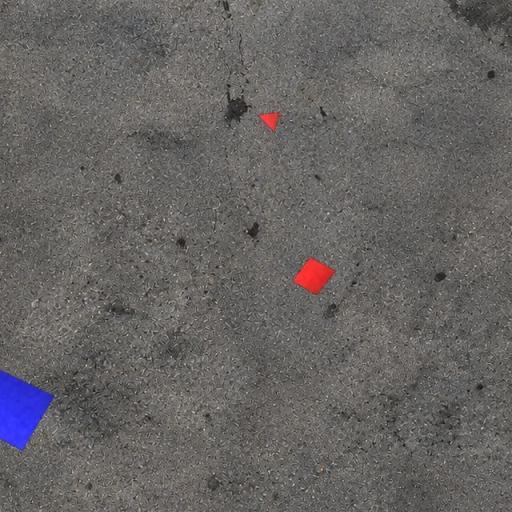BLUE_SQUARE: (0, 369, 55, 451)
RED_SQUARE: (292, 257, 337, 296)
